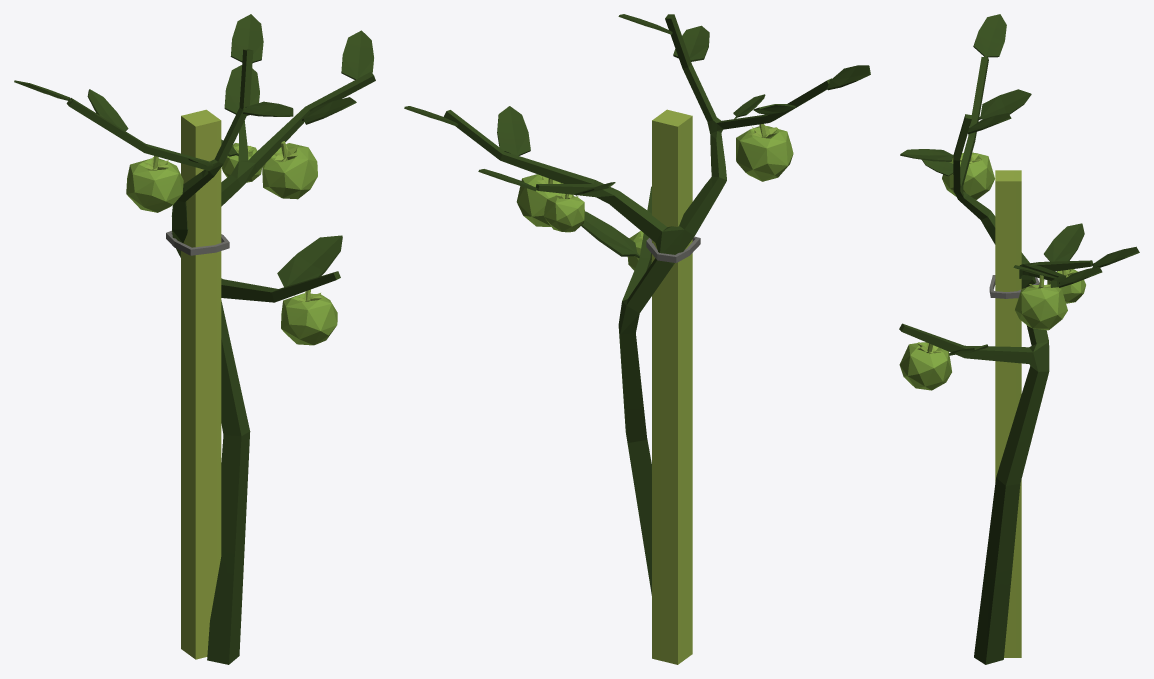
Rendered from TomatoPlant_02.fbx.
3 views of the same model, side by side, from view 1: azimuth 30°, elevation 25°; view 2: azimuth 150°, elevation 25°; view 3: azimuth 270°, elevation 25° (orthographic). The views are drawn at different scales.
Parts seen in each view (by area): view 1: TomatoPlant_02; view 2: TomatoPlant_02; view 3: TomatoPlant_02.
Boxes of the visible parts, x1=… form: TomatoPlant_02: x1=14, y1=14, x2=375, y2=664; TomatoPlant_02: x1=404, y1=14, x2=870, y2=664; TomatoPlant_02: x1=899, y1=14, x2=1139, y2=664.
Size of the model in its own units: 0.6228 by 0.9133 by 0.3566.
